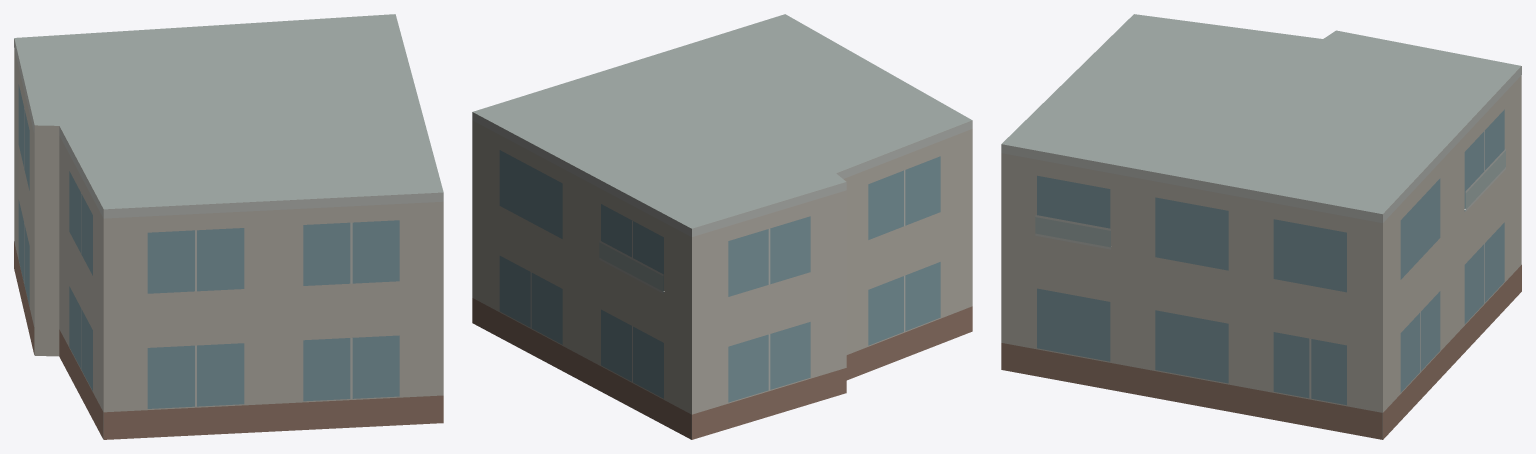
File: survey-upis-32460658.glb
3 renders of one model, left to right at view 1: azimuth 30°, elevation 25°; view 2: azimuth 150°, elevation 25°; view 3: azimuth 270°, elevation 25°, orthographic. The views are drawn at different scales.
Visible parts, largest first — view 1: survey-upis-32460658.tmp; view 2: survey-upis-32460658.tmp; view 3: survey-upis-32460658.tmp.
Part boxes in pixels (box(x1,y1,x2,y2)): survey-upis-32460658.tmp: box(14, 14, 443, 439); survey-upis-32460658.tmp: box(472, 14, 972, 439); survey-upis-32460658.tmp: box(1001, 14, 1521, 439).
Bounding box in the file's own units: 11.62 × 6.1 × 12.76.
